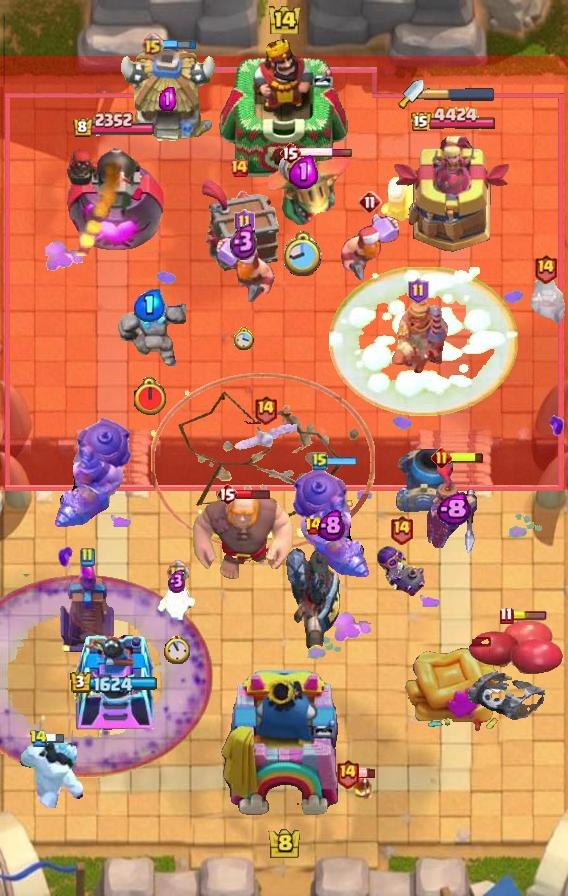balloon: (190, 491, 298, 583)
bar: (391, 132, 515, 256)
barbarian: (233, 420, 297, 452)
bat: (156, 582, 198, 624)
bomber: (351, 773, 373, 799)
dart-goblin: (198, 179, 280, 273)
electro-spirit: (437, 492, 472, 527), (230, 223, 258, 260), (134, 290, 166, 322), (289, 155, 318, 189), (319, 509, 345, 541), (168, 569, 186, 593), (160, 87, 177, 111)
elixir: (284, 231, 323, 277), (132, 377, 168, 417), (164, 635, 190, 664), (233, 326, 254, 350)
elixir-golem-big: (427, 462, 479, 556)
emote: (299, 147, 353, 158), (449, 452, 485, 465), (236, 488, 272, 500), (325, 456, 359, 468), (162, 38, 197, 49), (511, 611, 547, 621), (47, 733, 66, 744), (356, 768, 375, 779)
goblin-ball: (375, 545, 427, 601)
guard: (151, 372, 375, 552)
ice-spirit-evolution-symbol: (57, 562, 117, 654)
inferno-dragon: (284, 533, 342, 653)
king-tower: (219, 670, 349, 826), (218, 37, 350, 181)
king-tower-bar: (424, 87, 496, 101)
mighty-miner: (338, 214, 402, 284), (212, 234, 276, 304)
musketeer: (394, 448, 454, 512)
night-witch: (252, 152, 354, 228)
phoenix-big: (328, 267, 520, 416)
prince: (116, 50, 218, 146)
queen-tower: (73, 623, 155, 731)
rage: (19, 738, 83, 808)
ram-rider: (387, 300, 449, 378)
rocket: (0, 574, 212, 778)
royal-recruit-evolution: (464, 618, 566, 726)
selected: (411, 106, 498, 134), (72, 112, 156, 140), (70, 671, 158, 694)
tesla: (518, 274, 568, 326)
text: (534, 252, 559, 283), (254, 394, 279, 425), (390, 515, 415, 546), (335, 758, 360, 789), (358, 190, 382, 214), (141, 32, 164, 56), (166, 560, 189, 584), (233, 209, 254, 235), (407, 278, 428, 304), (279, 141, 301, 165), (216, 482, 238, 506), (431, 448, 453, 469), (229, 158, 249, 178), (304, 516, 324, 536), (28, 729, 47, 748), (312, 451, 328, 471), (79, 547, 95, 567), (499, 607, 513, 625)
tombstone: (378, 167, 420, 225)
tower-bar: (63, 138, 164, 256)
valkyrie-evolution: (114, 302, 186, 372)
wizard: (52, 416, 134, 530), (290, 466, 372, 580)
